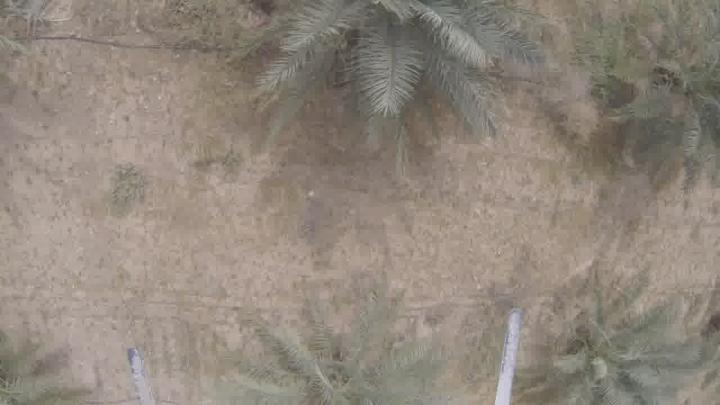Date-Palm-Crown: (266, 0, 503, 120), (538, 303, 674, 405), (246, 331, 416, 405), (624, 18, 720, 148), (0, 347, 58, 404)
